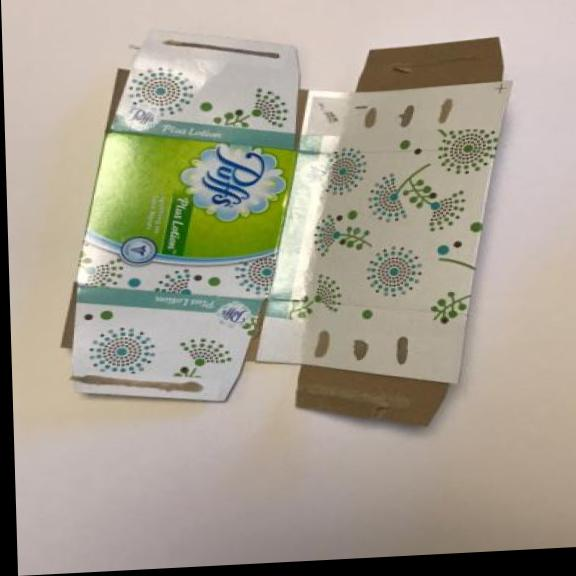Kertas: (47, 4, 535, 455)
